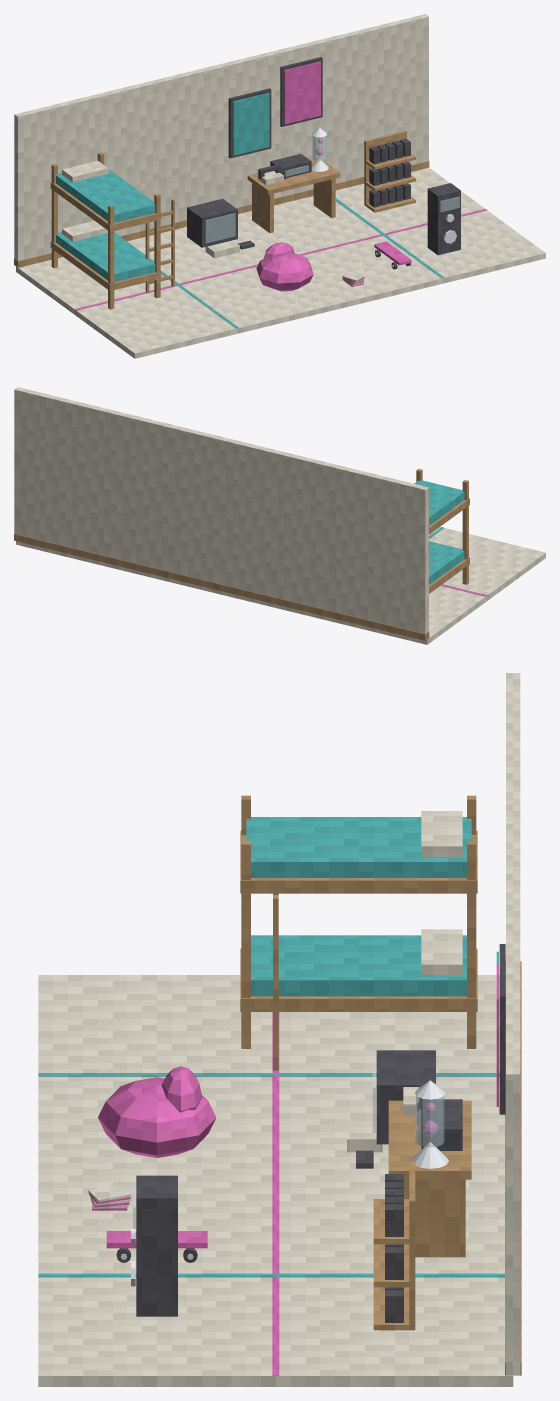
File: retro-arcade-and-mall-1989-teen-bedroom-1989-76d8dbd3__15571.glb
The picture shows the model from 3 angles, top to bottom: view 1: azimuth 30°, elevation 25°; view 2: azimuth 150°, elevation 25°; view 3: azimuth 270°, elevation 25°; orthographic projection. The views are drawn at different scales.
Parts seen in each view (by area): view 1: 002-bedroom-wall-panel/0, 003-bedroom-wall-panel/0, 000-tile-floor/0, 001-tile-floor/0, 004-bunk-bed/1, 004-bunk-bed/0, 005-cassette-deck-desk/0, 008-crt-and-console/0, 009-cartridge-shelf/1, 011-hi-fi-tower/0, 013-poster-wall-frames/1, 013-poster-wall-frames/2 (+12 smaller); view 2: 002-bedroom-wall-panel/0, 003-bedroom-wall-panel/0, 000-tile-floor/0, 004-bunk-bed/1, 002-bedroom-wall-panel/1, 003-bedroom-wall-panel/1, 004-bunk-bed/0, 001-tile-floor/0; view 3: 001-tile-floor/0, 000-tile-floor/0, 004-bunk-bed/1, 004-bunk-bed/0, 005-cassette-deck-desk/0, 010-beanbag/0, 003-bedroom-wall-panel/0, 011-hi-fi-tower/0, 004-bunk-bed/2, 009-cartridge-shelf/0, 008-crt-and-console/0, 002-bedroom-wall-panel/0 (+11 smaller).
Part boxes in pixels (left/top/right/bottom): 002-bedroom-wall-panel/0: left=14, top=64, right=223, bottom=260; 003-bedroom-wall-panel/0: left=220, top=14, right=428, bottom=207; 000-tile-floor/0: left=16, top=227, right=340, bottom=358; 001-tile-floor/0: left=238, top=167, right=545, bottom=308; 004-bunk-bed/1: left=56, top=169, right=155, bottom=281; 004-bunk-bed/0: left=50, top=152, right=174, bottom=309; 005-cassette-deck-desk/0: left=247, top=158, right=340, bottom=233; 008-crt-and-console/0: left=187, top=198, right=254, bottom=249; 009-cartridge-shelf/1: left=369, top=138, right=410, bottom=207; 011-hi-fi-tower/0: left=427, top=183, right=460, bottom=255; 013-poster-wall-frames/1: left=233, top=93, right=269, bottom=155; 013-poster-wall-frames/2: left=284, top=61, right=320, bottom=124; 002-bedroom-wall-panel/0: left=220, top=437, right=428, bottom=633; 003-bedroom-wall-panel/0: left=14, top=387, right=222, bottom=583; 000-tile-floor/0: left=221, top=527, right=545, bottom=644; 004-bunk-bed/1: left=414, top=480, right=464, bottom=584; 002-bedroom-wall-panel/1: left=219, top=584, right=429, bottom=640; 003-bedroom-wall-panel/1: left=14, top=534, right=219, bottom=590; 004-bunk-bed/0: left=416, top=468, right=469, bottom=593; 001-tile-floor/0: left=16, top=541, right=221, bottom=594; 001-tile-floor/0: left=38, top=1175, right=513, bottom=1386; 000-tile-floor/0: left=38, top=975, right=504, bottom=1175; 004-bunk-bed/1: left=246, top=817, right=471, bottom=996; 004-bunk-bed/0: left=240, top=795, right=477, bottom=1070; 005-cassette-deck-desk/0: left=388, top=1100, right=471, bottom=1257; 010-beanbag/0: left=98, top=1066, right=216, bottom=1157; 003-bedroom-wall-panel/0: left=506, top=873, right=520, bottom=1375; 011-hi-fi-tower/0: left=136, top=1175, right=177, bottom=1316; 004-bunk-bed/2: left=421, top=811, right=462, bottom=975; 009-cartridge-shelf/0: left=373, top=1161, right=415, bottom=1330; 008-crt-and-console/0: left=356, top=1050, right=435, bottom=1168; 002-bedroom-wall-panel/0: left=506, top=673, right=520, bottom=873.
Size of the model in its own units: 8 by 2.91 by 4.07.
Materials: 7 (5 with a texture image).
